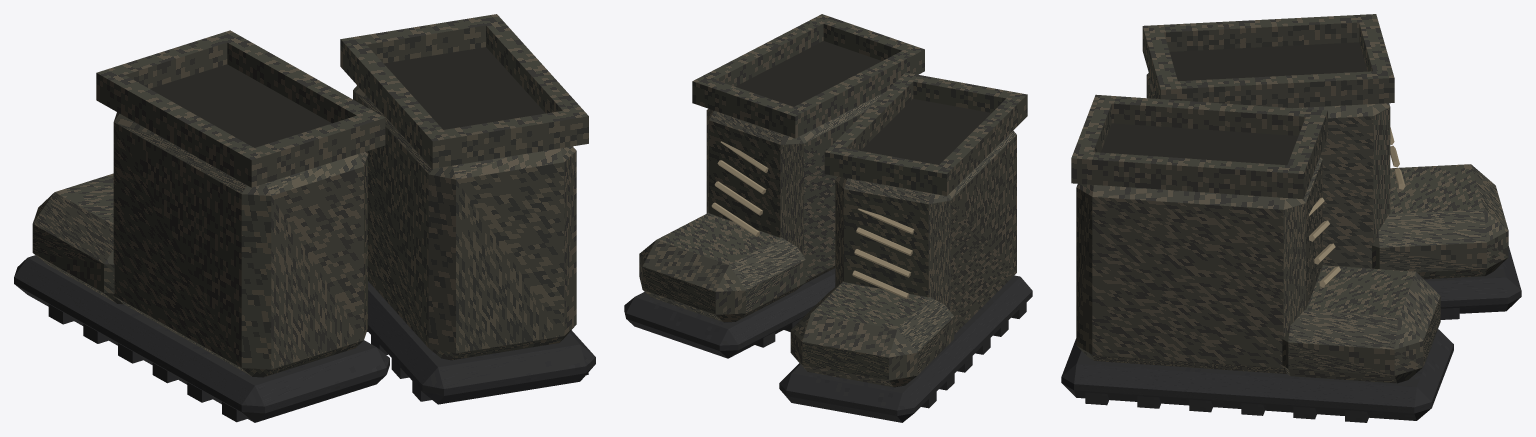
File: boots_combat.glb
3 views of the same model, side by side, from view 1: azimuth 30°, elevation 25°; view 2: azimuth 150°, elevation 25°; view 3: azimuth 270°, elevation 25° (orthographic). The views are drawn at different scales.
Visible parts, largest first — view 1: block_ankle (×2), block_sole (×2), block_dark lining (×2), block_collar side -0.055 (×2), block_collar side 0.042 (×2), block_collar end 0.103 (×2), block_toe, block_collar end -0.053 (×2); view 2: block_ankle (×2), block_toe (×2), block_sole (×2), block_dark lining (×2), block_collar side -0.055 (×2), block_collar side 0.042 (×2), block_collar end -0.053 (×2), block_collar end 0.103 (×2), block_laces 0, block_laces 1, block_laces 2; view 3: block_ankle (×2), block_toe (×2), block_sole (×2), block_collar side 0.042 (×2), block_collar side -0.055 (×2), block_dark lining (×2), block_collar end -0.053 (×2), block_collar end 0.103 (×2).
Part boxes in pixels (box(x1,y1,x2,y2)): block_ankle (×2): box(113, 85, 576, 377); block_sole (×2): box(14, 255, 595, 422); block_dark lining (×2): box(150, 47, 545, 147); block_collar side -0.055 (×2): box(96, 36, 450, 187); block_collar side 0.042 (×2): box(215, 14, 588, 149); block_collar end 0.103 (×2): box(255, 110, 570, 182); block_toe: box(32, 173, 123, 304); block_collar end -0.053 (×2): box(112, 17, 485, 88); block_ankle (×2): box(706, 92, 1016, 334); block_toe (×2): box(639, 212, 954, 387); block_sole (×2): box(624, 268, 1032, 422); block_dark lining (×2): box(735, 41, 991, 164); block_collar side -0.055 (×2): box(783, 45, 1027, 195); block_collar side 0.042 (×2): box(692, 14, 919, 176); block_collar end -0.053 (×2): box(704, 80, 938, 193); block_collar end 0.103 (×2): box(823, 18, 1012, 112); block_laces 0: box(852, 270, 909, 299); block_laces 1: box(854, 249, 911, 277); block_laces 2: box(856, 227, 912, 255); block_ankle (×2): box(1076, 73, 1390, 373); block_toe (×2): box(1282, 164, 1508, 383); block_sole (×2): box(1061, 246, 1521, 420); block_collar side 0.042 (×2): box(1071, 70, 1394, 199); block_collar side -0.055 (×2): box(1093, 14, 1378, 142); block_dark lining (×2): box(1100, 42, 1367, 165); block_collar end -0.053 (×2): box(1287, 21, 1391, 190); block_collar end 0.103 (×2): box(1074, 32, 1177, 152).
Size of the model in its own units: 0.3085 by 0.193 by 0.3323.
1 material, 1 textured.
